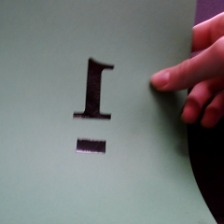green1: (63, 46, 124, 159)
